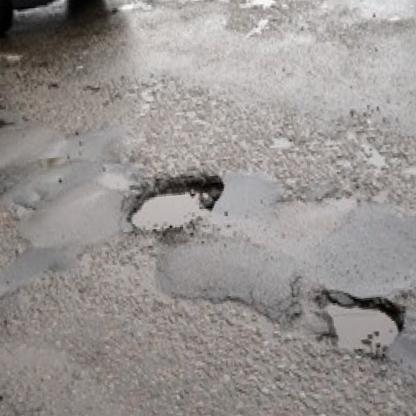pothole: (123, 168, 229, 236), (317, 283, 407, 354)
